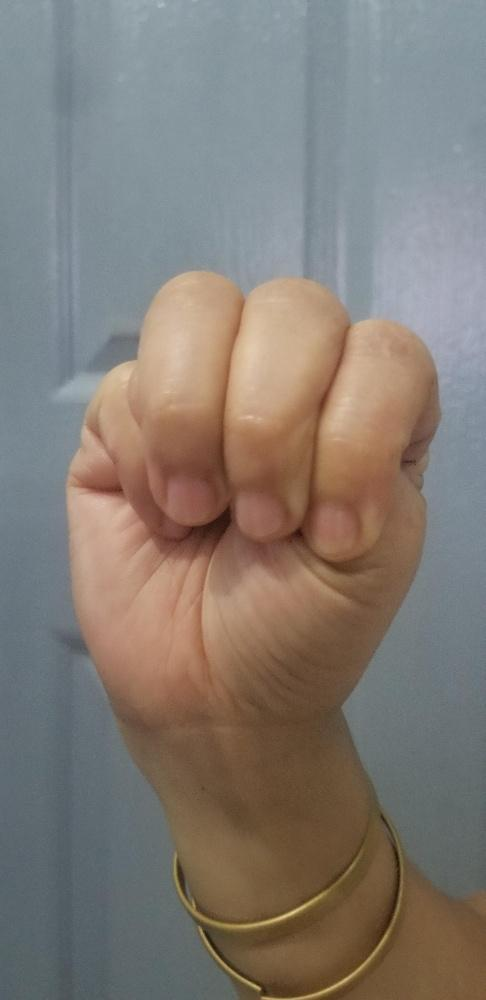m: (61, 268, 444, 718)
